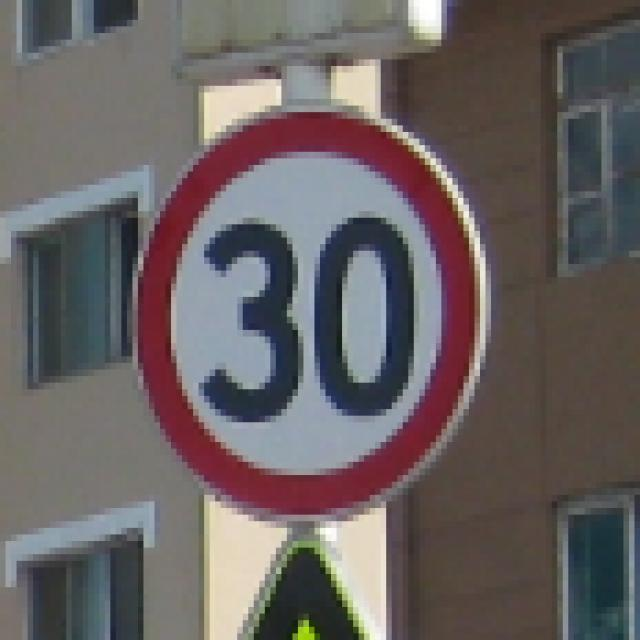Speed: (127, 111, 523, 525)
